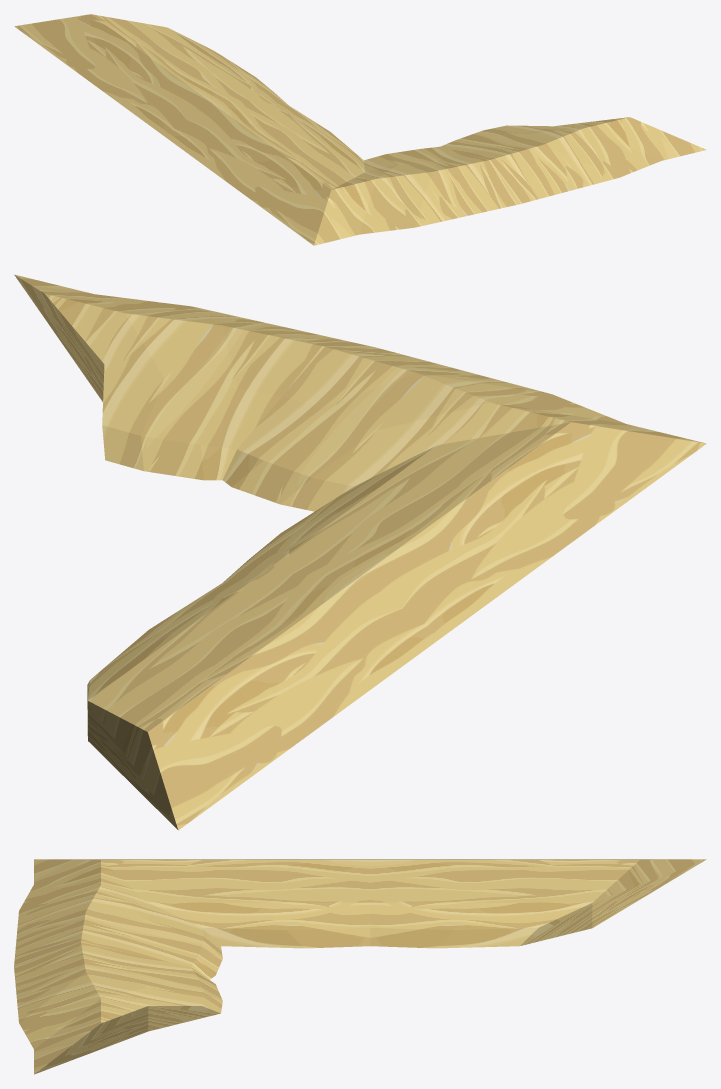
Rendered from BEACH.obj.
3 renders of one model, top to bottom at view 1: azimuth 30°, elevation 25°; view 2: azimuth 150°, elevation 25°; view 3: azimuth 270°, elevation 25°, orthographic. The views are drawn at different scales.
Parts seen in each view (by area): view 1: Plane.001; view 2: Plane.001; view 3: Plane.001.
Boxes of the visible parts, x1,y1,x2,y2 form: Plane.001: (14,14,706,245); Plane.001: (14,274,706,830); Plane.001: (14,859,706,1074).
Bounding box in the file's own units: 19.35 × 1.6 × 26.33.
